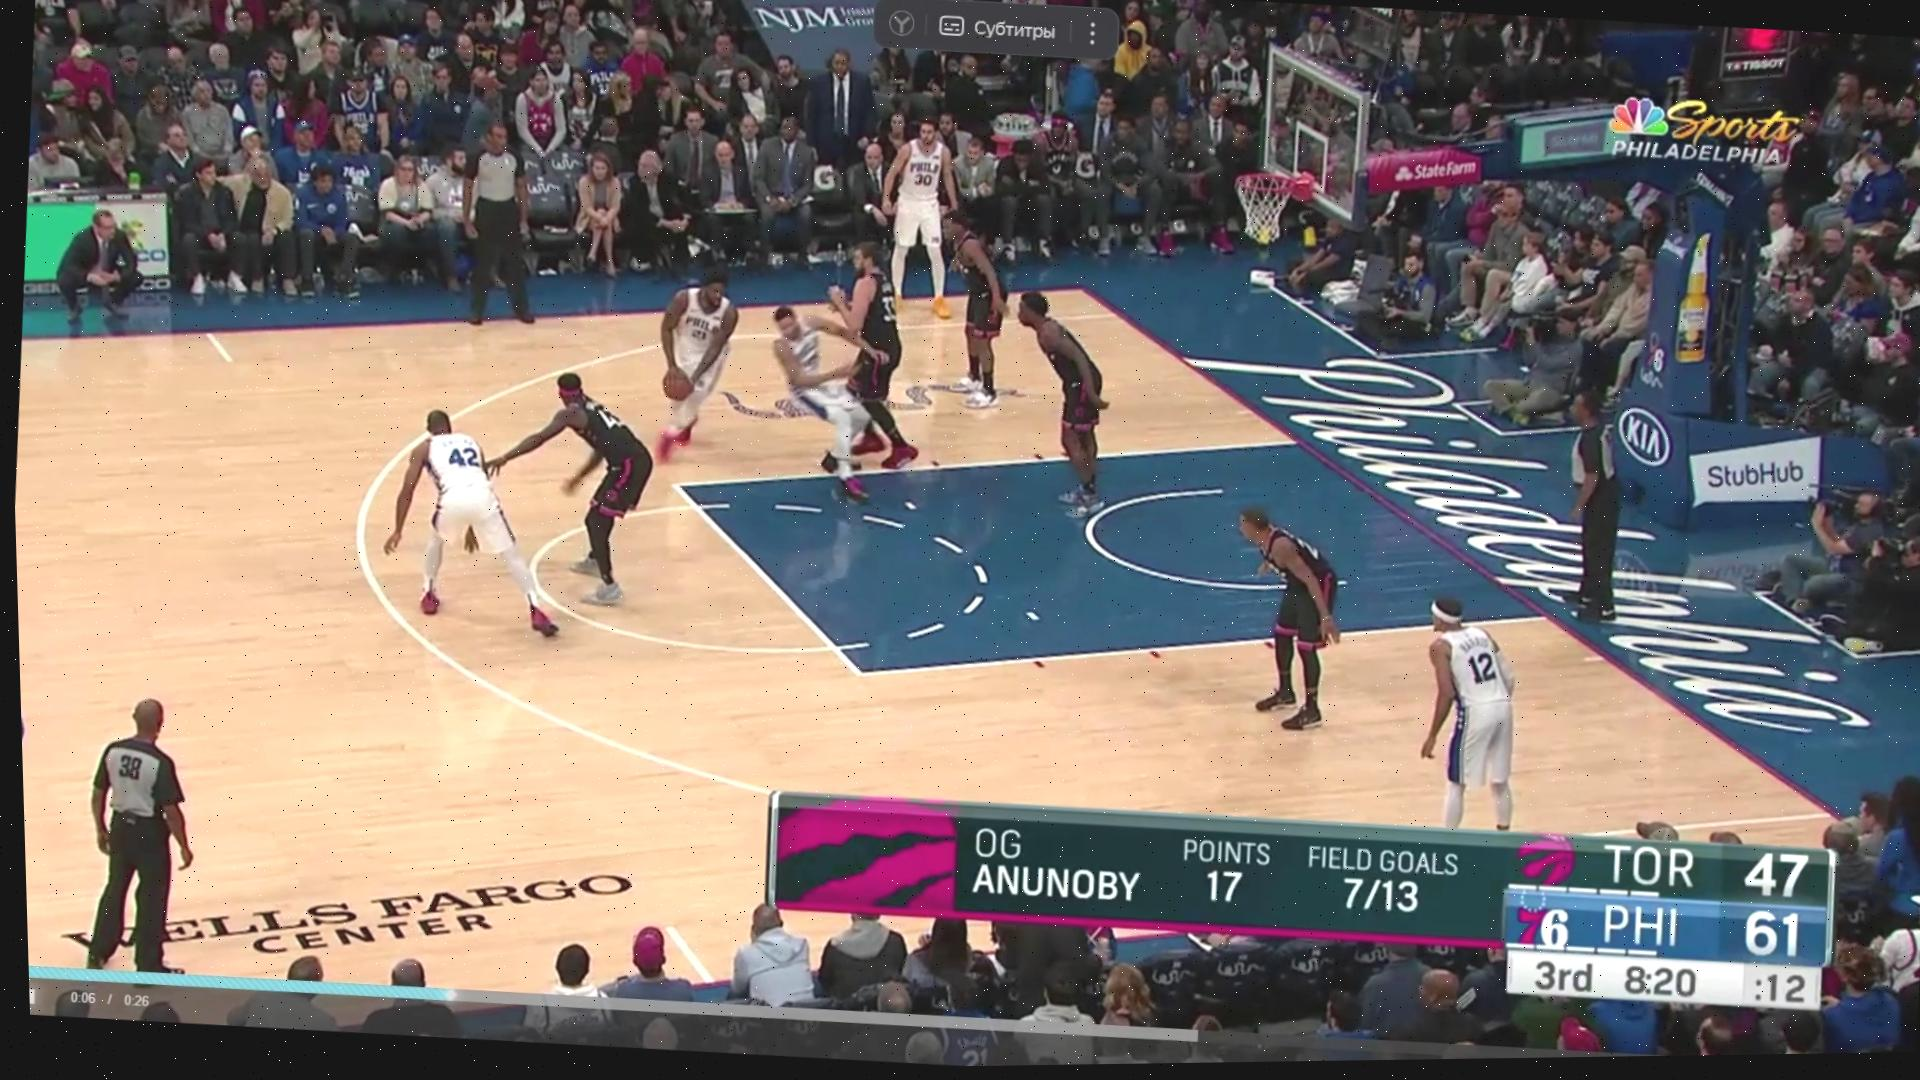foul: (742, 232, 935, 497)
